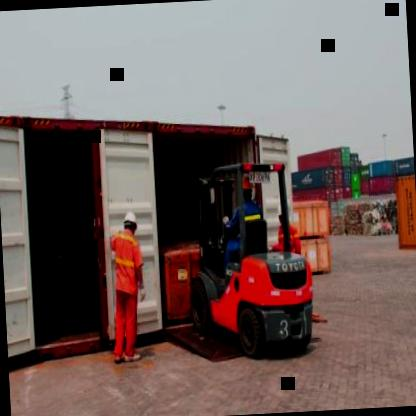helmet: (118, 208, 142, 240), (234, 172, 254, 201), (274, 197, 293, 226)
